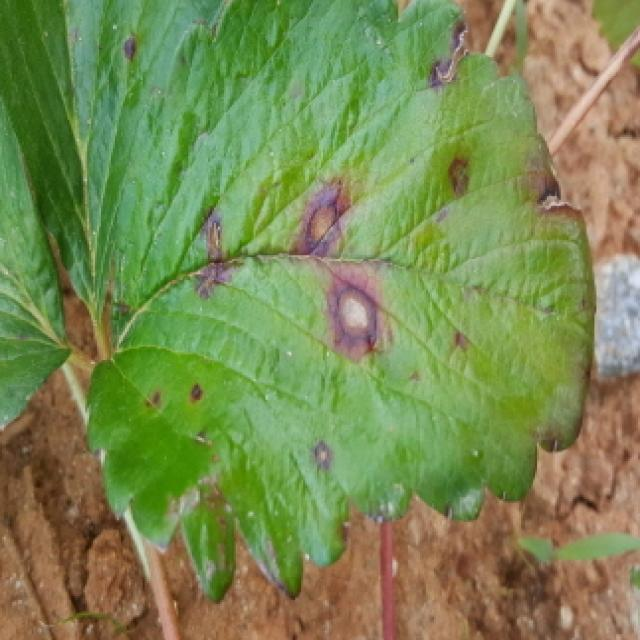Leaf Spot: (83, 0, 599, 604)
